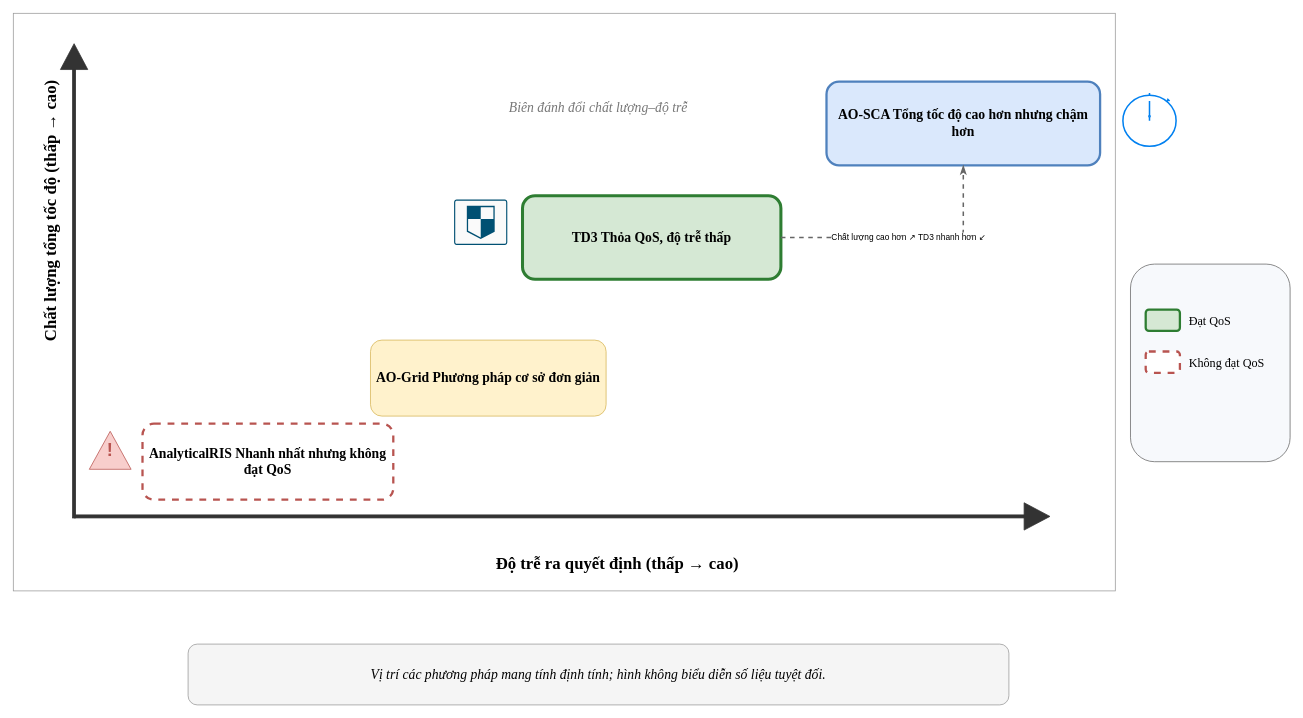
Image size: 1303x718. Some labels were removed from this diagram. The box of each missing label's shape, as (x1, y1, x2, y2) in pixels:
CHÚ GIẢI: (1130, 263, 1290, 462)
Tin cậy QoS: (453, 199, 507, 245)
Độ trễ cao: (1122, 92, 1176, 147)
